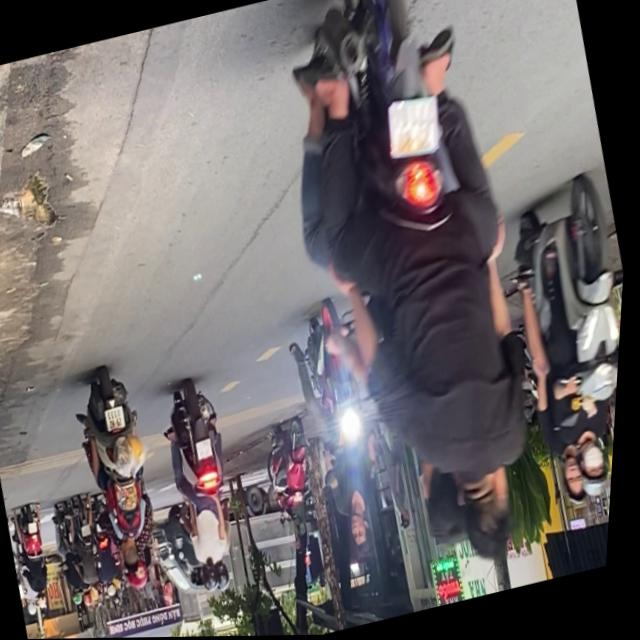helmet: (577, 438, 619, 502), (562, 452, 599, 510), (128, 551, 160, 593), (216, 558, 242, 596), (208, 563, 230, 597)
licenseplate: (230, 0, 596, 599), (483, 175, 632, 516), (278, 302, 409, 572), (63, 362, 189, 603), (151, 376, 268, 602)
motorcyclist: (409, 448, 485, 557), (455, 467, 533, 569), (351, 509, 384, 561), (121, 526, 152, 576)
nohelmet: (383, 96, 448, 161), (107, 405, 133, 433), (199, 440, 220, 462)
